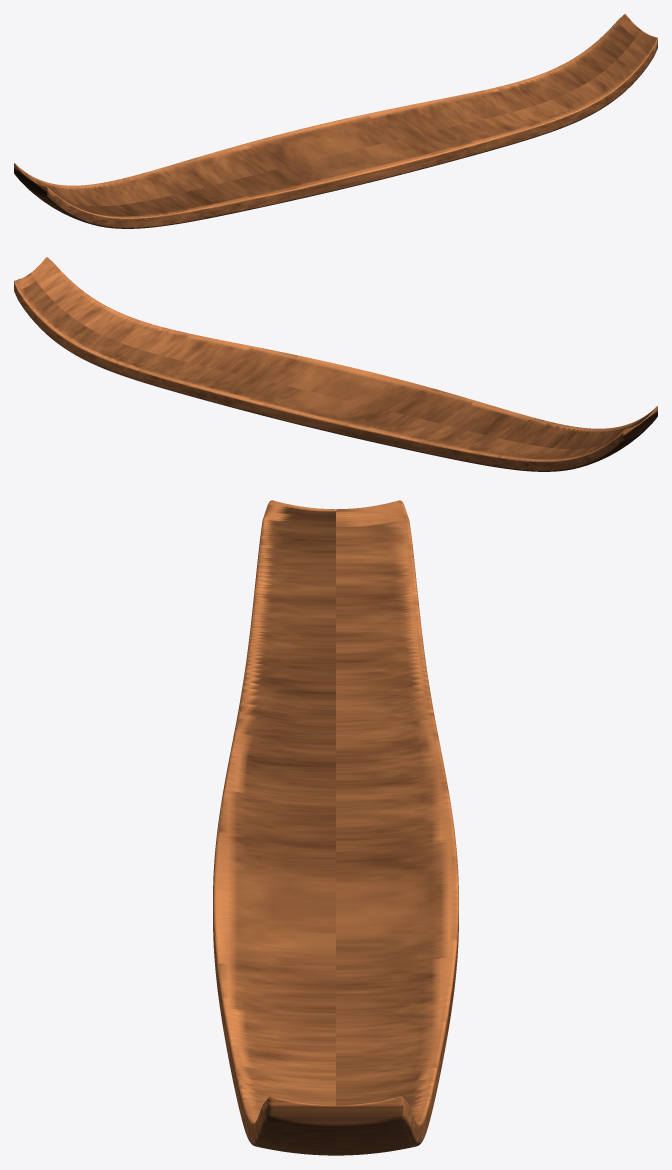
The model's file is PranchaNeve.glb.
3 renders of one model, top to bottom at view 1: azimuth 30°, elevation 25°; view 2: azimuth 150°, elevation 25°; view 3: azimuth 270°, elevation 25°, orthographic. The views are drawn at different scales.
Parts seen in each view (by area): view 1: Snowboard | Madeira Escura; view 2: Snowboard | Madeira Escura; view 3: Snowboard | Madeira Escura.
Part boxes in pixels (x1,y1,x2,y2): Snowboard | Madeira Escura: [14, 14, 657, 228]; Snowboard | Madeira Escura: [14, 257, 657, 471]; Snowboard | Madeira Escura: [213, 500, 458, 1155].
Bounding box in the file's own units: 1.55 × 0.1617 × 0.27.
1 material, 1 textured.
